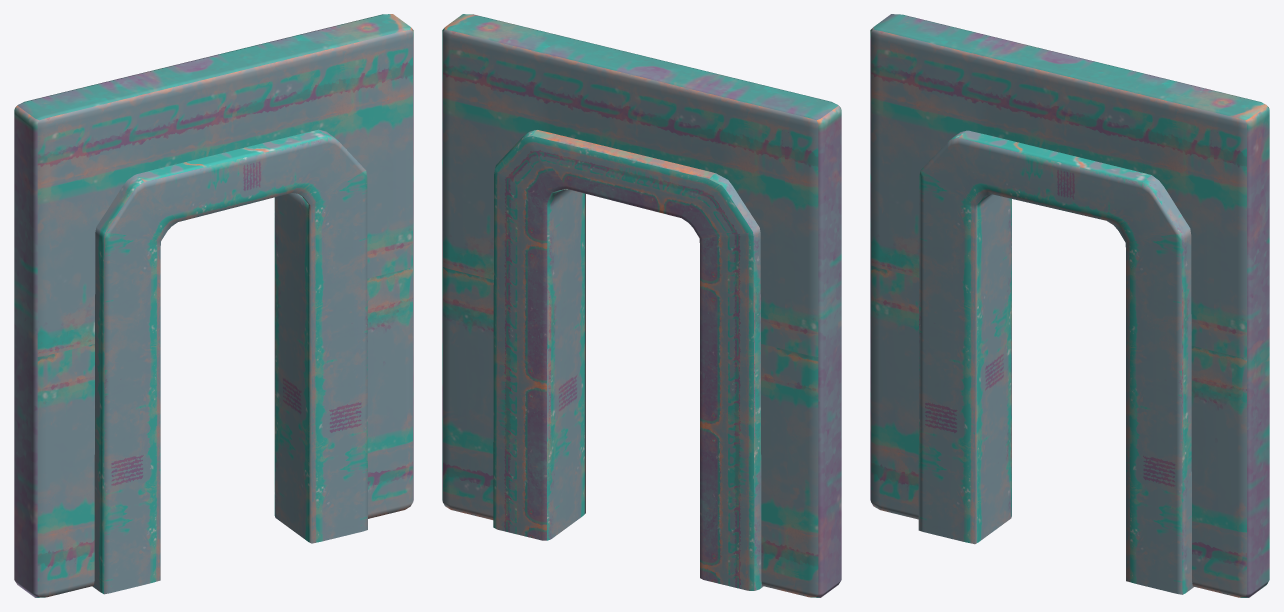
The model's file is wall_v3_lp.fbx.
The picture shows the model from 3 angles, left to right: view 1: azimuth 30°, elevation 25°; view 2: azimuth 150°, elevation 25°; view 3: azimuth 330°, elevation 25°; orthographic projection.
Visible parts, largest first — view 1: wall_v3_lp; view 2: wall_v3_lp; view 3: wall_v3_lp.
Part boxes in pixels (left/top/right/bottom): wall_v3_lp: left=14, top=14, right=413, bottom=597; wall_v3_lp: left=442, top=14, right=841, bottom=597; wall_v3_lp: left=870, top=14, right=1269, bottom=597.
Bounding box in the file's own units: 349 × 422 × 62.21.
